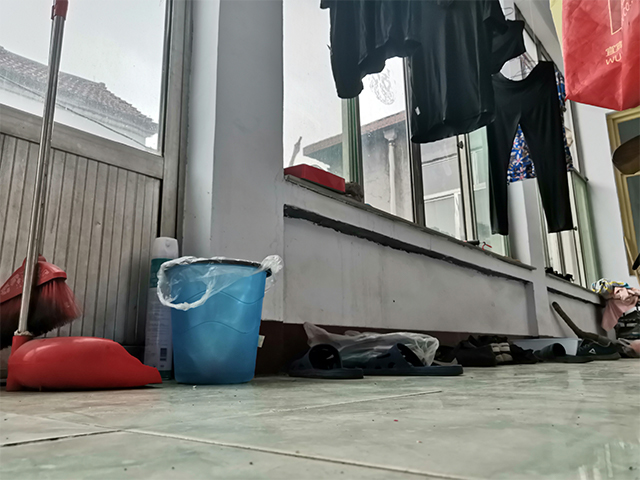slippers: (364, 338, 464, 380), (285, 340, 364, 381), (533, 341, 589, 366)
trashcan: (155, 254, 275, 385)
